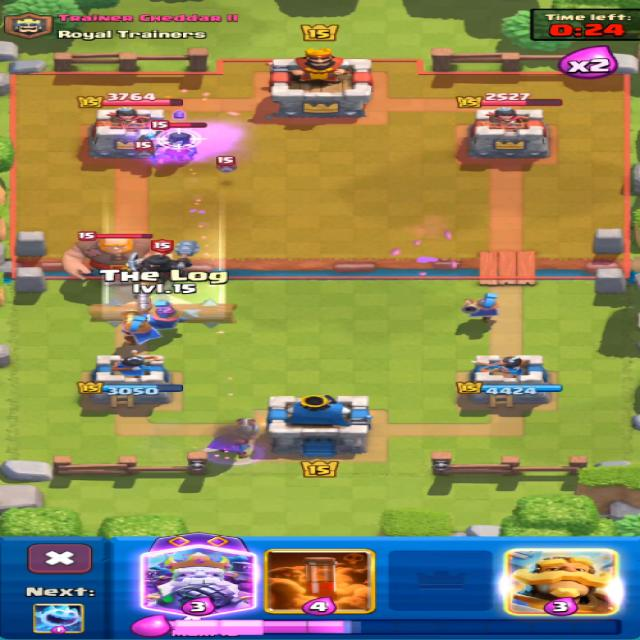Enemy-Bat: (136, 139, 154, 157), (216, 156, 236, 172)
Enemy-DarkPrince-Shield-Charge: (129, 241, 198, 280)
Enemy-Giant: (63, 237, 154, 278)
Enemy-KingTower: (269, 48, 371, 118)
Enemy-NightWitch: (150, 131, 196, 163), (141, 132, 156, 145)
Enemy-PrincessTower: (468, 107, 549, 158), (90, 108, 163, 157)
